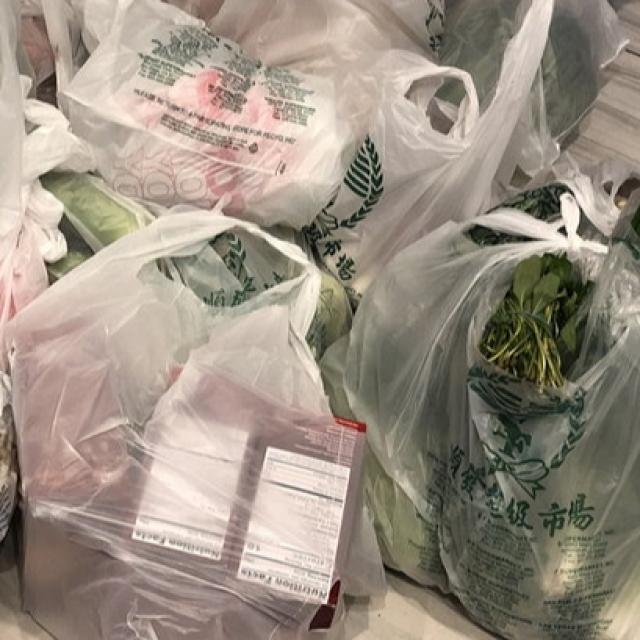Single-layer Plastic: (10, 211, 364, 640), (345, 170, 640, 640), (61, 0, 418, 228), (306, 0, 552, 291)
